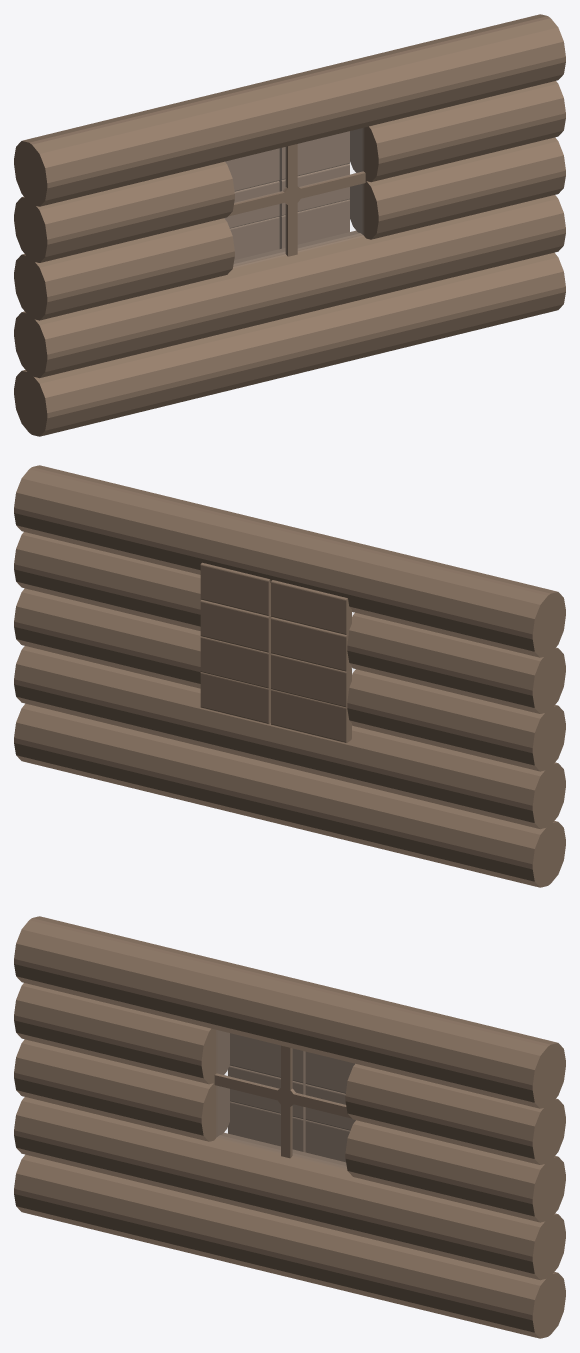
The model's file is hut_wall_with_window.fbx.
3 views of the same model, one above another, from view 1: azimuth 30°, elevation 25°; view 2: azimuth 150°, elevation 25°; view 3: azimuth 330°, elevation 25° (orthographic).
Visible parts, largest first — view 1: log.012; view 2: log.012; view 3: log.012.
Part boxes in pixels (x1,y1,x2,y2): log.012: (14,14,565,436); log.012: (14,465,565,887); log.012: (14,916,565,1338).
Bounding box in the file's own units: 1803 × 964 × 206.
